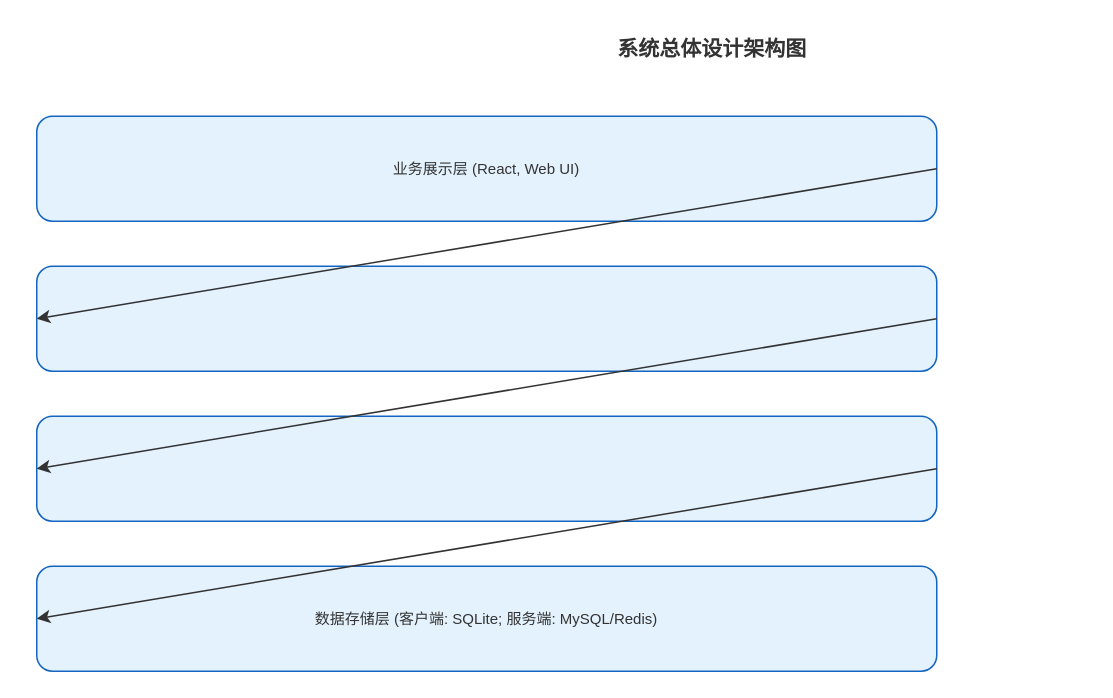
This 1113x698 diagram has some shape labels left out. Each missing label, with the centre of its shape:
业务服务层 (推荐 API, 冷启动): [486,318]
算法引擎层 (FedASCL, 压缩器, 聚合器): [486,468]
